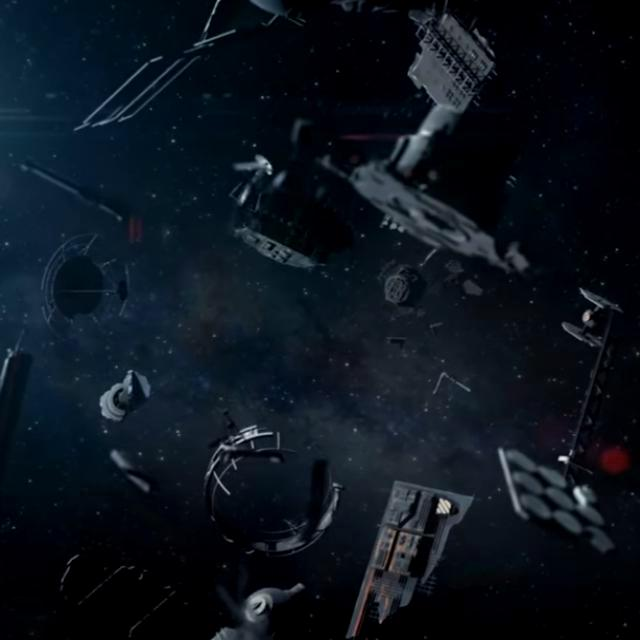large_debris: (317, 2, 537, 328), (493, 271, 640, 577), (61, 0, 314, 143), (189, 419, 365, 567), (346, 470, 480, 640), (222, 113, 341, 293), (26, 237, 151, 337), (39, 551, 171, 640), (3, 160, 147, 240), (199, 553, 319, 640), (0, 322, 39, 490), (85, 365, 155, 435), (103, 443, 165, 501), (427, 363, 471, 420)
